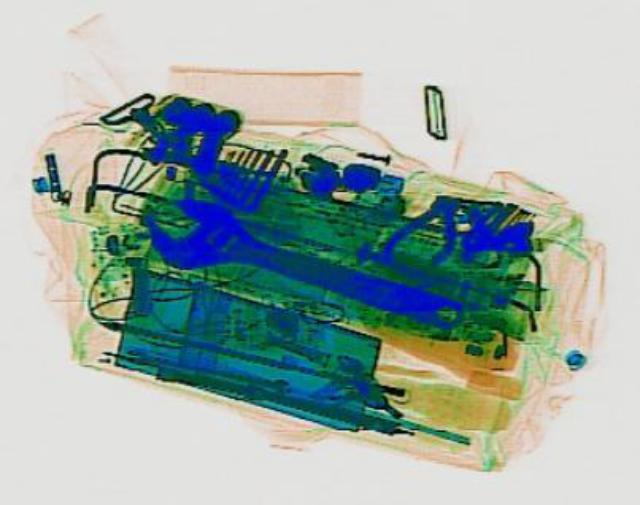Pliers: (372, 181, 482, 274)
Wrench: (123, 184, 480, 349)
